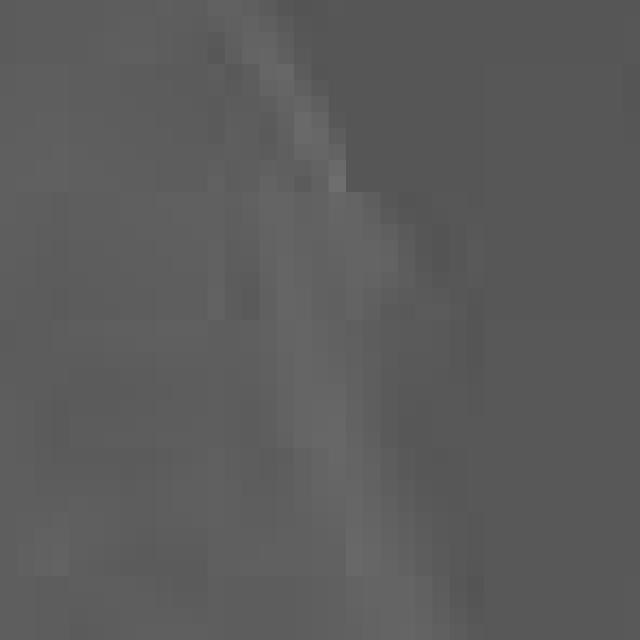fracture: (10, 8, 640, 640)
